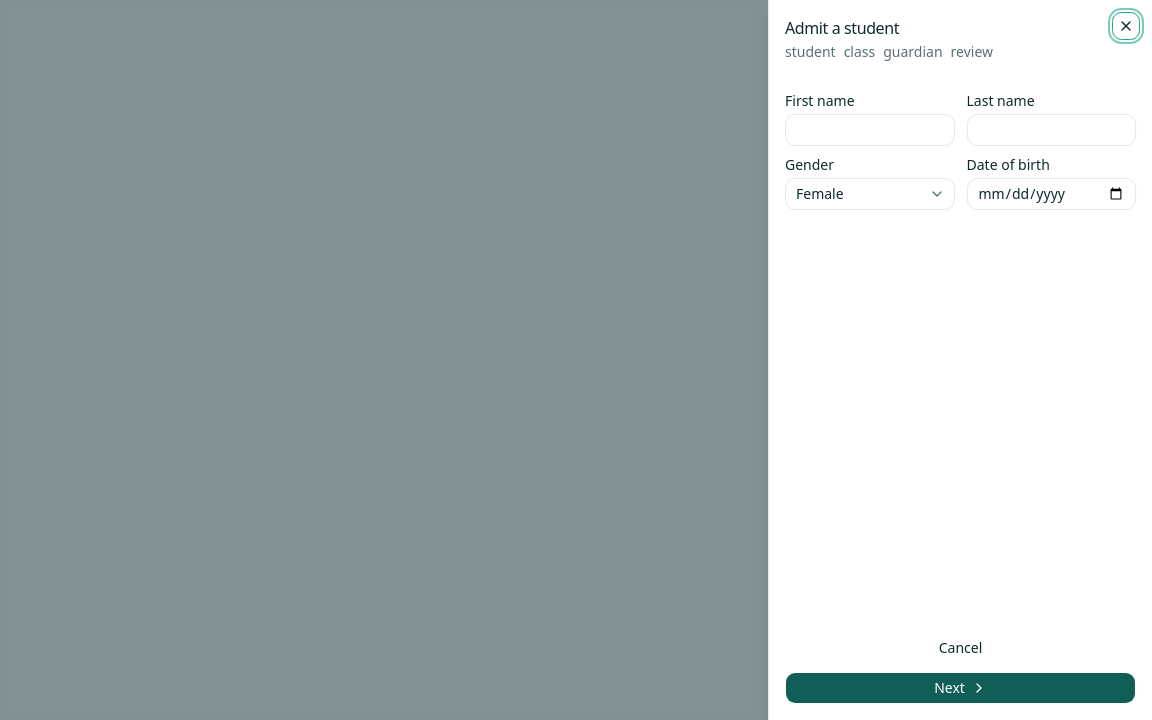
it: AdmitStudentSheet step 2 › names the term and year and offers the classes with the first selected
The width and height of the screenshot is (1152, 720).
Type "Peace" into the field labelled "First name" at (870, 130), box [785, 114, 954, 146]
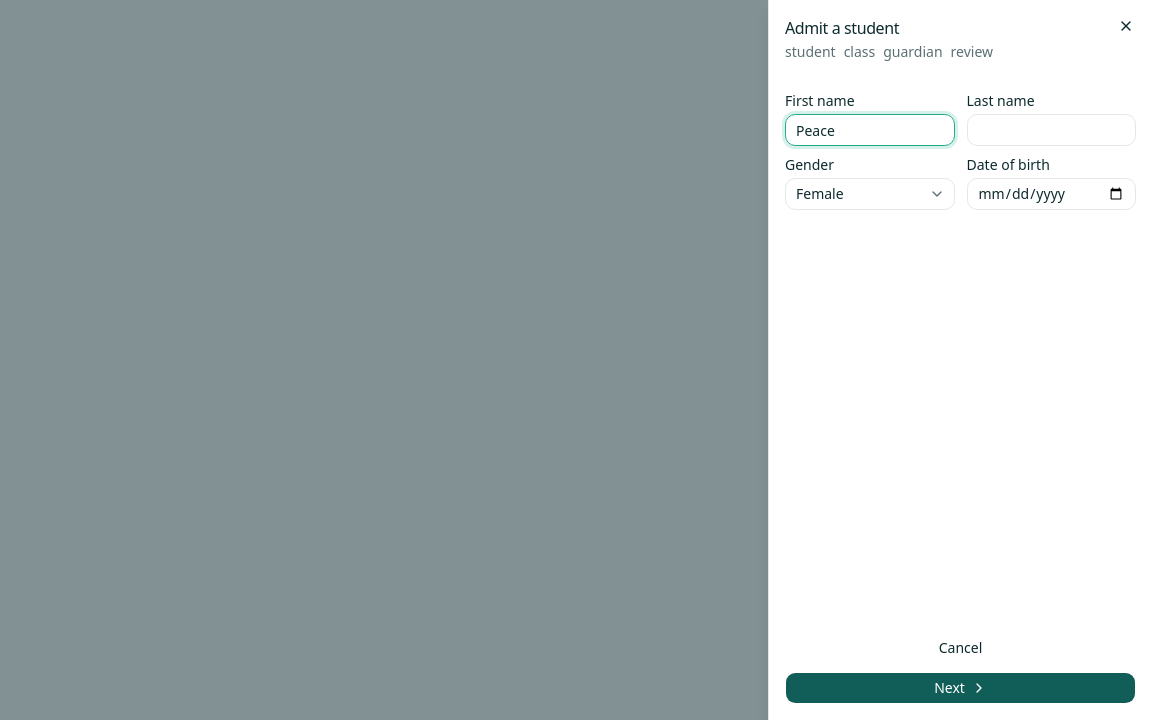
Type "Udoh" into the field labelled "Last name" at (1051, 130), box [966, 114, 1136, 146]
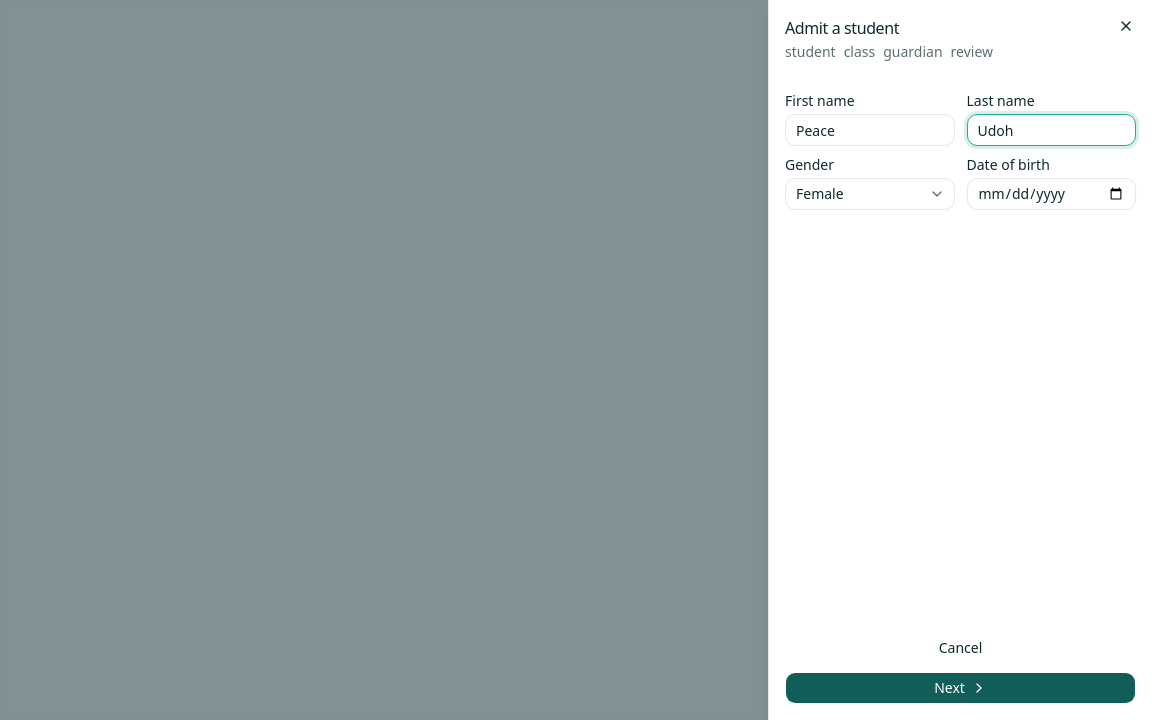
Type "2014-03-03" into the date field labelled "Date of birth" at (1051, 194), box [966, 178, 1136, 210]
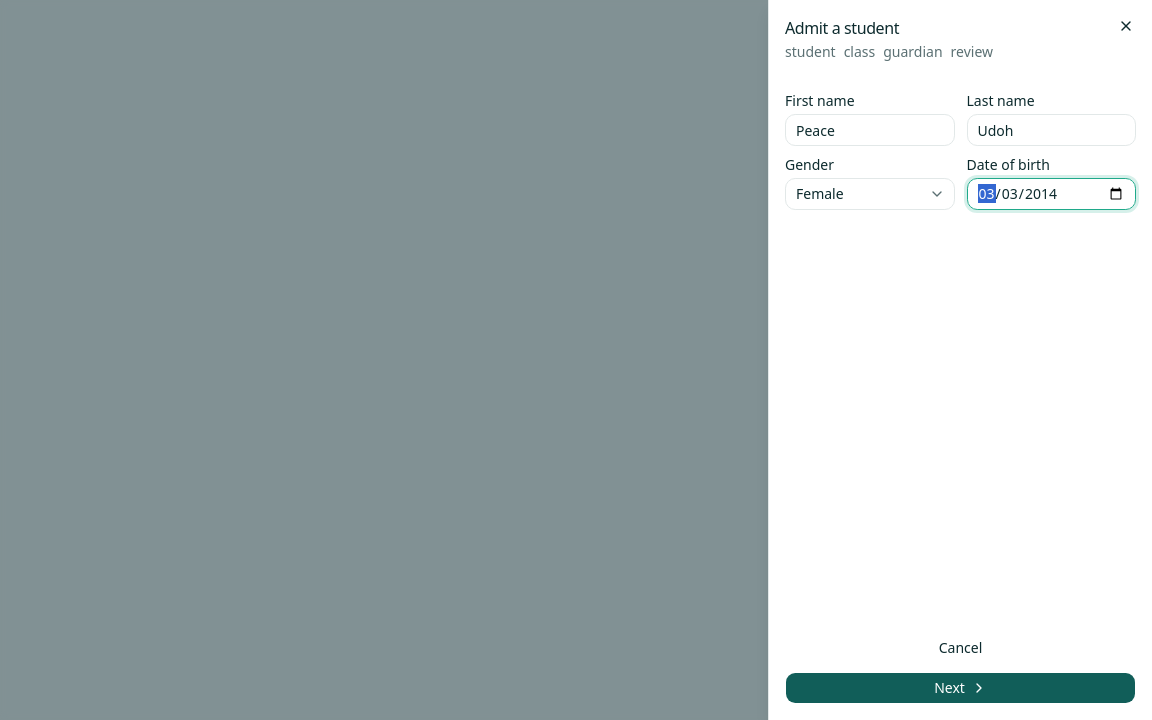
Click the button "Next" at (960, 688), box [785, 672, 1136, 704]
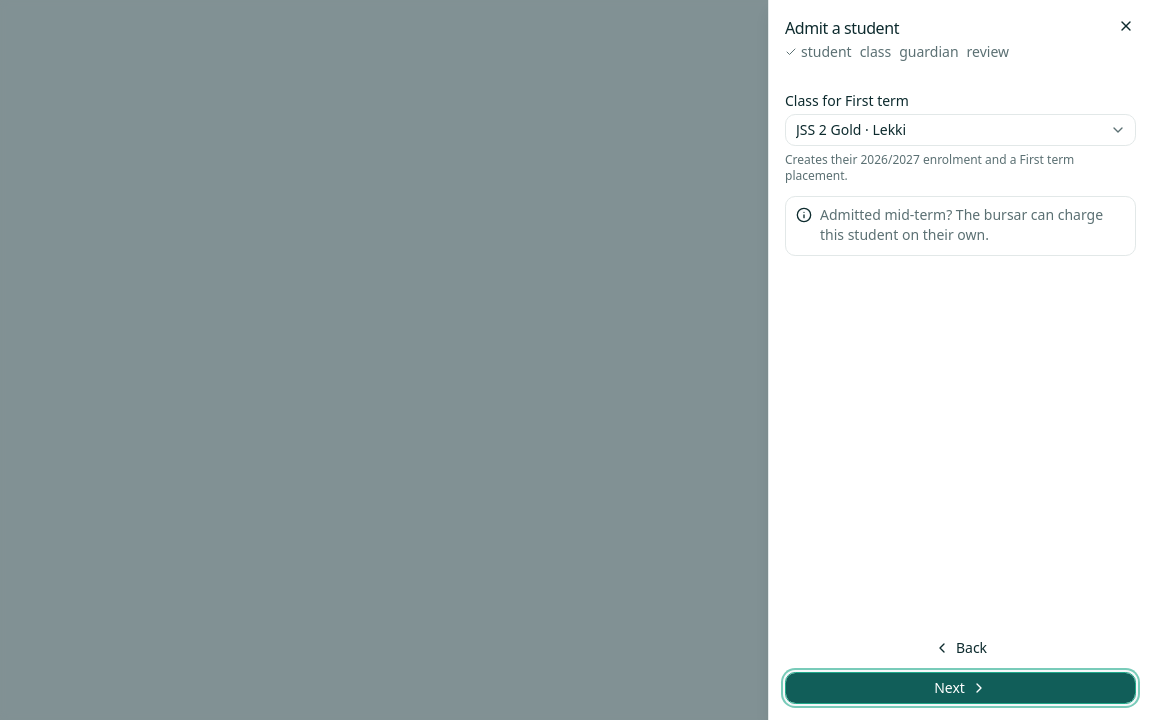
Now the dropdown labelled "Class for First term" shows "JSS 2 Gold · Lekki", box [785, 114, 1136, 146]
Now the text "Creates their 2026/2027 enrolment and a First term placement." is shown, box [785, 151, 1074, 184]
Now the text "Admitted mid-term? The bursar can charge this student on their own." is shown, box [820, 205, 1125, 245]
